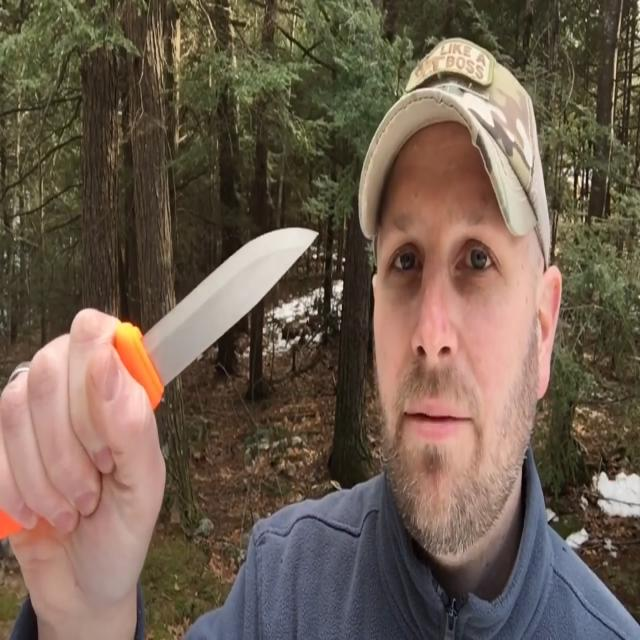knife: (123, 223, 324, 401)
